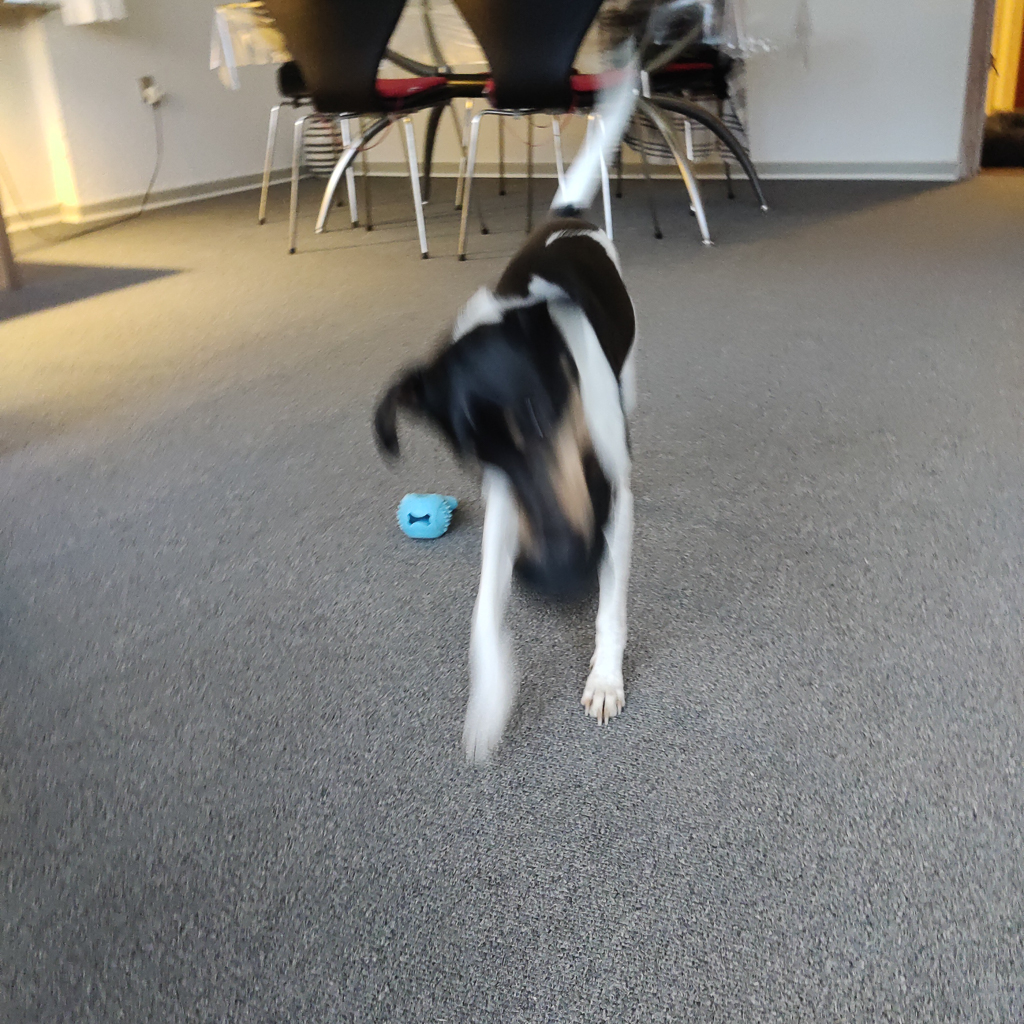Dog: (333, 25, 738, 801)
